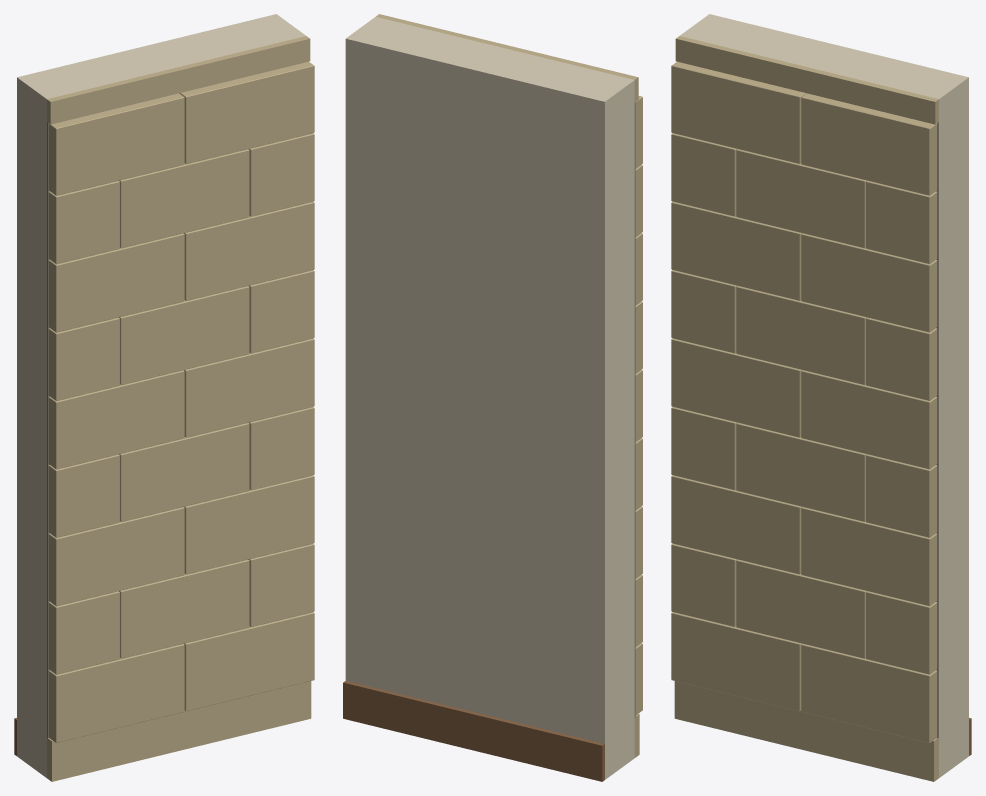
The model's file is rpg-mansion-ashlar-wall-bay-01.glb.
3 renders of one model, left to right at view 1: azimuth 30°, elevation 25°; view 2: azimuth 150°, elevation 25°; view 3: azimuth 330°, elevation 25°, orthographic.
Parts seen in each view (by area): view 1: rpg-mansion-ashlar-wall-bay-01; view 2: rpg-mansion-ashlar-wall-bay-01; view 3: rpg-mansion-ashlar-wall-bay-01.
Part boxes in pixels (<box>): rpg-mansion-ashlar-wall-bay-01: <box>14,14,314,781</box>; rpg-mansion-ashlar-wall-bay-01: <box>343,14,642,781</box>; rpg-mansion-ashlar-wall-bay-01: <box>671,14,971,781</box>.
Size of the model in its own units: 1.2 by 3 by 0.33.
